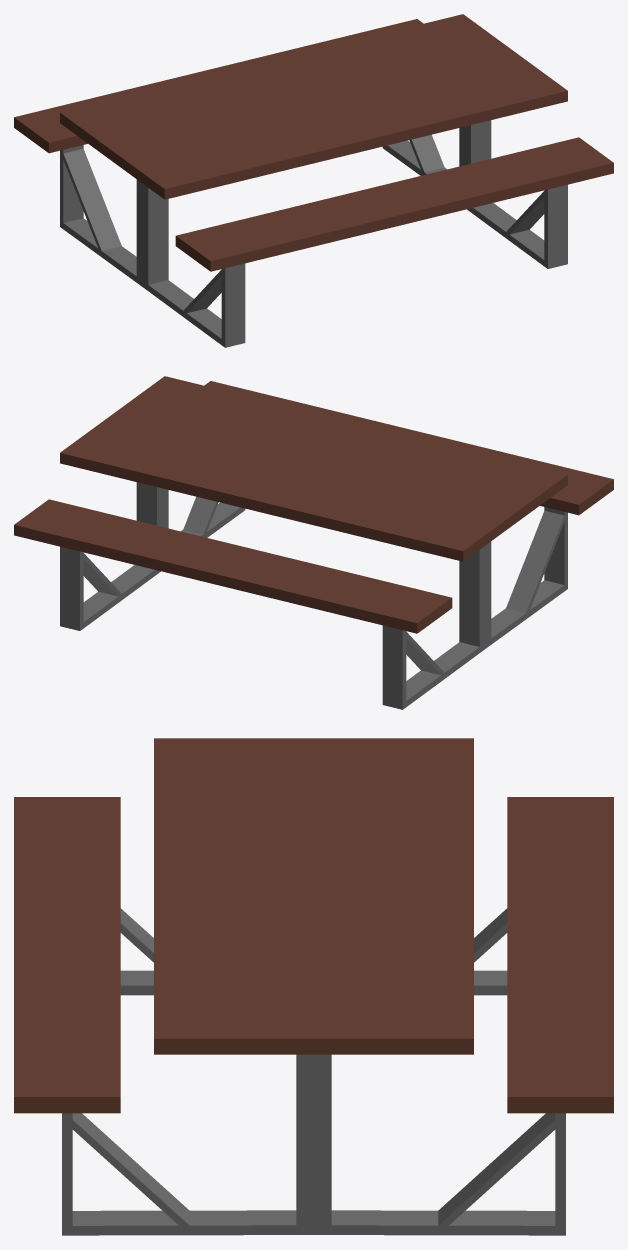
The model's file is Tori_Pöytä.fbx.
3 renders of one model, top to bottom at view 1: azimuth 30°, elevation 25°; view 2: azimuth 150°, elevation 25°; view 3: azimuth 270°, elevation 25°, orthographic. The views are drawn at different scales.
Parts seen in each view (by area): view 1: Puisto_Pöytä; view 2: Puisto_Pöytä; view 3: Puisto_Pöytä.
Part boxes in pixels (left/top/right/bottom): Puisto_Pöytä: left=14, top=14, right=613, bottom=347; Puisto_Pöytä: left=14, top=376, right=613, bottom=709; Puisto_Pöytä: left=14, top=738, right=613, bottom=1235.
Size of the model in its own units: 200 by 68.2 by 169.
